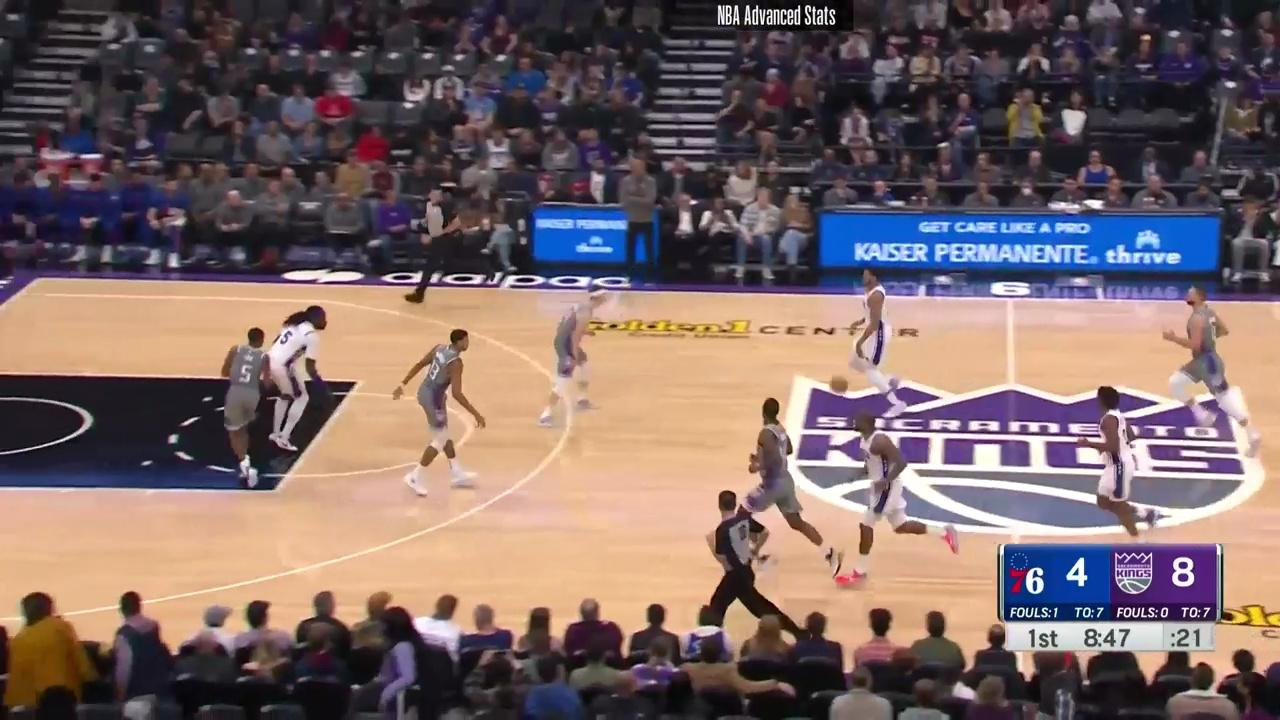Ball: (830, 377, 848, 393)
Person: (833, 408, 963, 586), (734, 395, 840, 576), (1170, 286, 1264, 464), (393, 323, 486, 500), (1084, 386, 1161, 546), (219, 321, 286, 487), (272, 301, 338, 456), (544, 278, 611, 424), (841, 265, 904, 400)
Referee: (694, 490, 793, 638), (402, 185, 475, 307)
